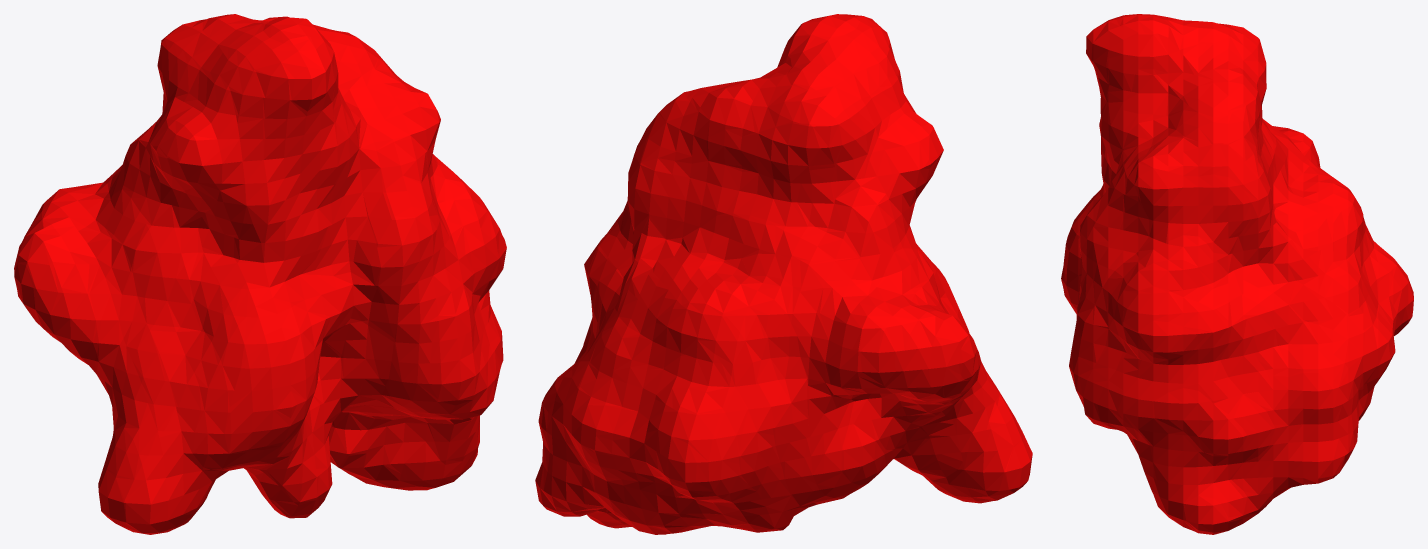
The model's file is yegD_coarse.dae.
3 views of the same model, side by side, from view 1: azimuth 30°, elevation 25°; view 2: azimuth 150°, elevation 25°; view 3: azimuth 270°, elevation 25° (orthographic). The views are drawn at different scales.
Visible parts, largest first — view 1: yegD; view 2: yegD; view 3: yegD.
Boxes of the visible parts, <box> form: yegD: <box>14,14,506,534</box>; yegD: <box>535,14,1032,534</box>; yegD: <box>1061,14,1413,534</box>.
Size of the model in its own units: 63.16 by 73.91 by 53.78.
